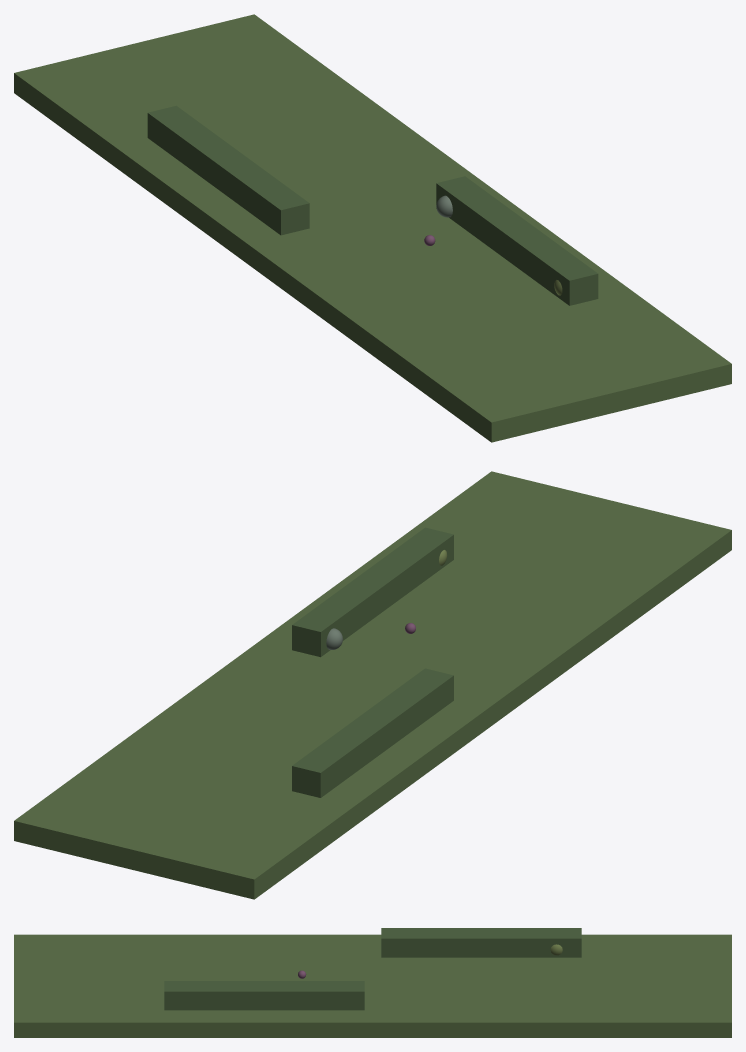
The model's file is kelpworks.collision.glb.
3 renders of one model, top to bottom at view 1: azimuth 30°, elevation 25°; view 2: azimuth 150°, elevation 25°; view 3: azimuth 270°, elevation 25°, orthographic. The views are drawn at different scales.
Parts seen in each view (by area): view 1: kelp-seabed, kelp-west-bank, kelp-east-bank; view 2: kelp-seabed, kelp-west-bank, kelp-east-bank; view 3: kelp-seabed, kelp-east-bank, kelp-west-bank.
Boxes of the visible parts, x1,y1,x2,y2 form: kelp-seabed: [14, 14, 731, 442]; kelp-west-bank: [147, 105, 309, 235]; kelp-east-bank: [436, 176, 598, 305]; kelp-seabed: [14, 471, 731, 899]; kelp-west-bank: [292, 668, 453, 797]; kelp-east-bank: [292, 527, 453, 657]; kelp-seabed: [14, 934, 731, 1037]; kelp-east-bank: [164, 981, 364, 1010]; kelp-west-bank: [381, 928, 581, 957].
Size of the model in its own units: 50 by 9 by 172.
